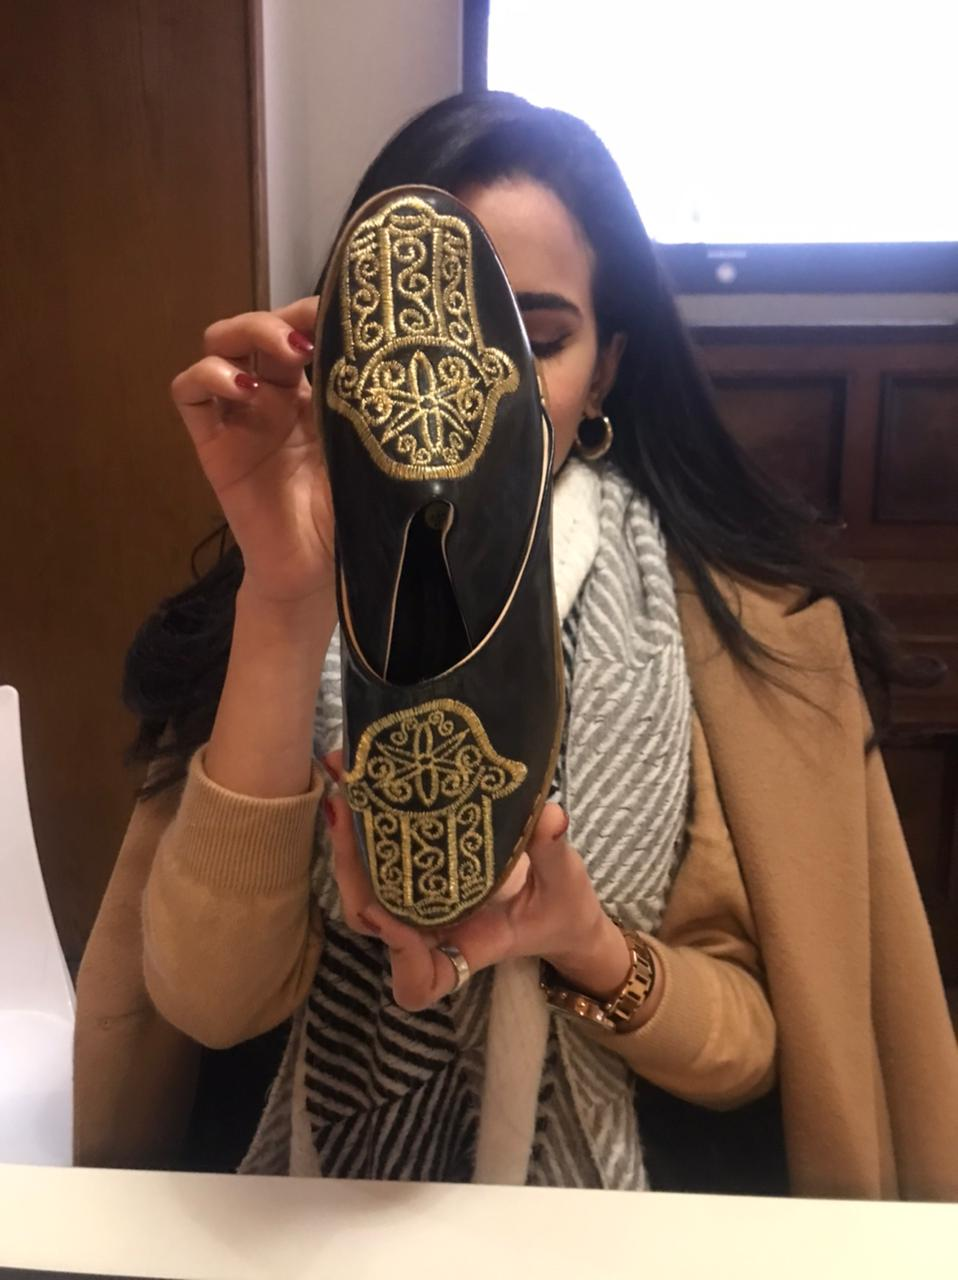balgha: (275, 156, 578, 938)
